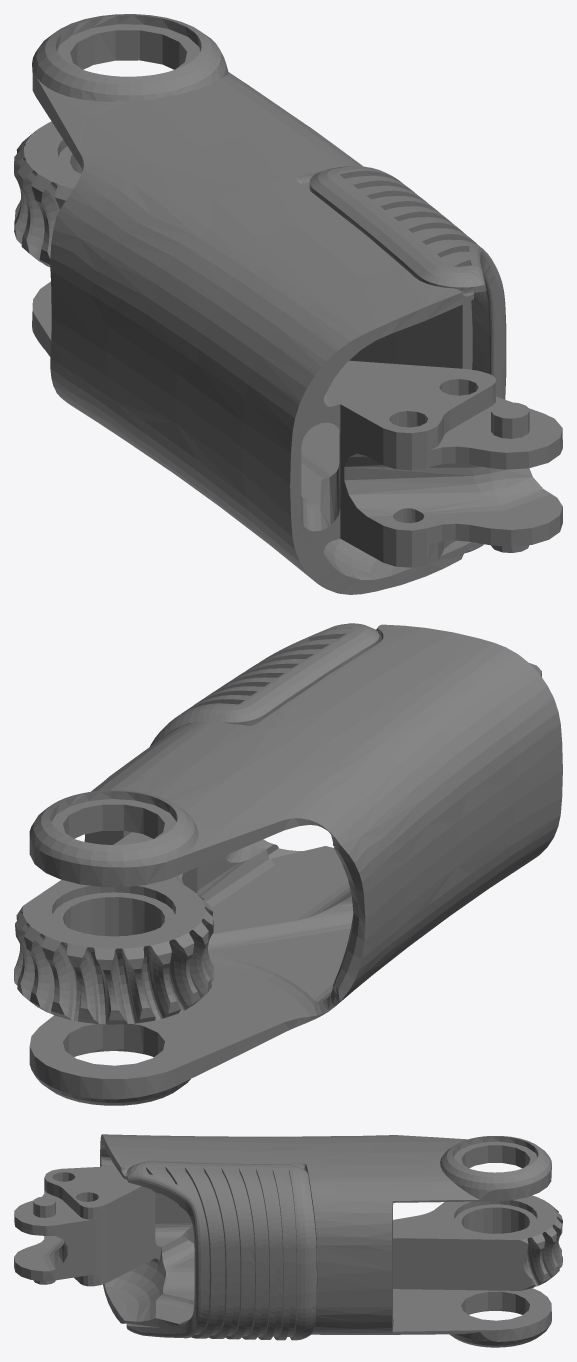
File: lh_middle_proximal_vis.obj
The picture shows the model from 3 angles, top to bottom: view 1: azimuth 30°, elevation 25°; view 2: azimuth 150°, elevation 25°; view 3: azimuth 270°, elevation 25°; orthographic projection. The views are drawn at different scales.
Parts seen in each view (by area): view 1: lh_middle_proximal; view 2: lh_middle_proximal; view 3: lh_middle_proximal.
Part boxes in pixels (x1=…): lh_middle_proximal: x1=14, y1=14, x2=562, y2=594; lh_middle_proximal: x1=14, y1=623, x2=562, y2=1105; lh_middle_proximal: x1=14, y1=1134, x2=562, y2=1347.
Size of the model in its own units: 0.0185 by 0.0168 by 0.0479.
Materials: 1 (1 with a texture image).
